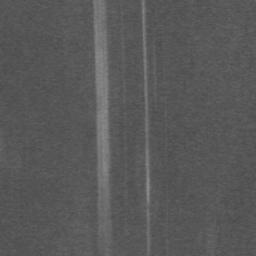Bright scratch: (94, 0, 113, 256), (142, 0, 150, 256)
